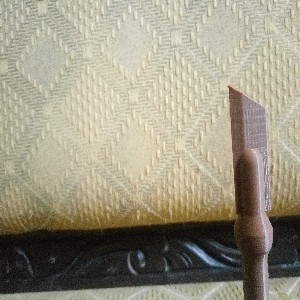cutter: (226, 84, 274, 300)
